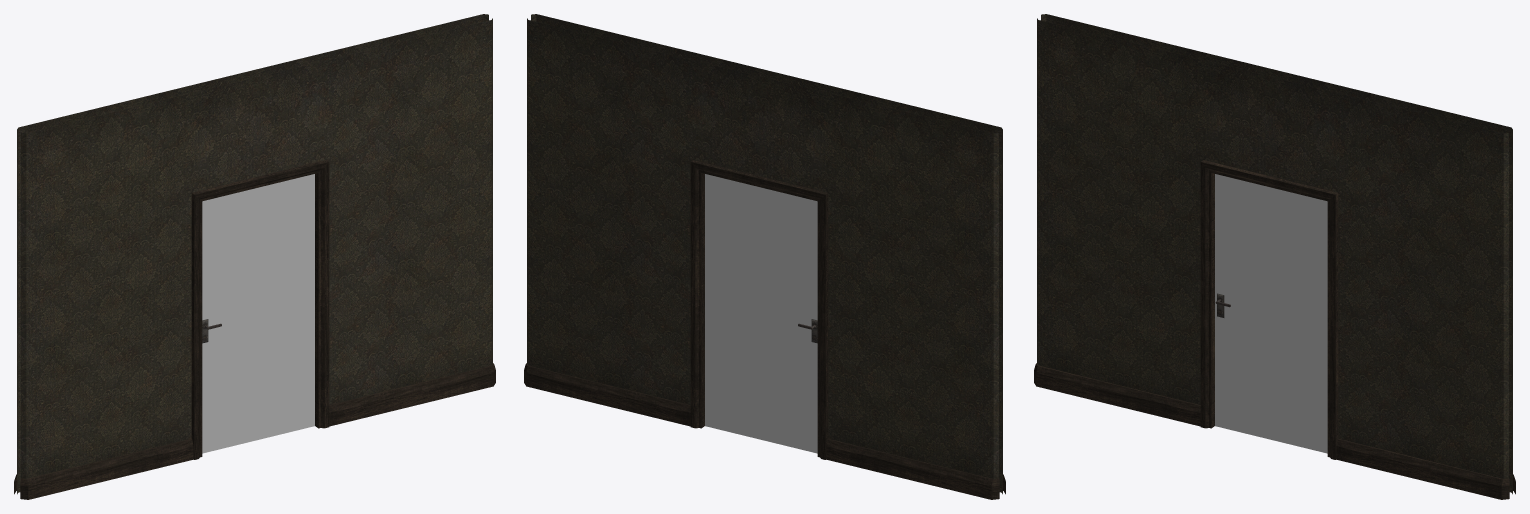
Rendered from doorway_door_mp_1.fbx.
3 views of the same model, side by side, from view 1: azimuth 30°, elevation 25°; view 2: azimuth 150°, elevation 25°; view 3: azimuth 330°, elevation 25° (orthographic).
Parts seen in each view (by area): view 1: doorway_door_mp_1, door_mp_1; view 2: doorway_door_mp_1, door_mp_1; view 3: doorway_door_mp_1, door_mp_1.
Boxes of the visible parts, x1,y1,x2,y2 form: doorway_door_mp_1: [14, 14, 495, 499]; door_mp_1: [202, 174, 314, 453]; doorway_door_mp_1: [524, 14, 1005, 499]; door_mp_1: [705, 174, 817, 453]; doorway_door_mp_1: [1034, 14, 1515, 499]; door_mp_1: [1215, 174, 1327, 453].
Bounding box in the file's own units: 4.09 × 0.2 × 3.
